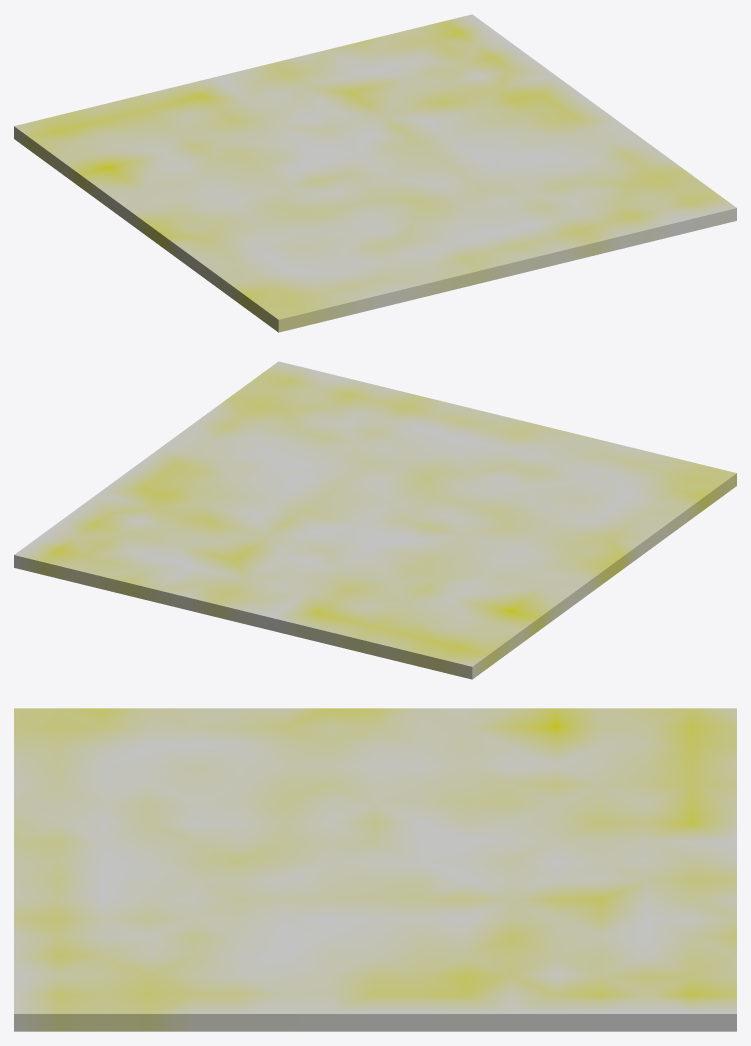
Rendered from SM_Floor.fbx.
The picture shows the model from 3 angles, top to bottom: view 1: azimuth 30°, elevation 25°; view 2: azimuth 150°, elevation 25°; view 3: azimuth 270°, elevation 25°; orthographic projection. The views are drawn at different scales.
Visible parts, largest first — view 1: SM_Floor, SM_Floor_1.001; view 2: SM_Floor, SM_Floor_1.001; view 3: SM_Floor, SM_Floor_1.001.
Boxes of the visible parts, x1=… form: SM_Floor: x1=14, y1=14, x2=736, y2=319; SM_Floor_1.001: x1=14, y1=126, x2=736, y2=332; SM_Floor: x1=14, y1=361, x2=736, y2=666; SM_Floor_1.001: x1=14, y1=473, x2=736, y2=679; SM_Floor: x1=14, y1=708, x2=736, y2=1013; SM_Floor_1.001: x1=14, y1=1014, x2=736, y2=1031.
Bounding box in the file's own units: 750 × 20 × 750.
